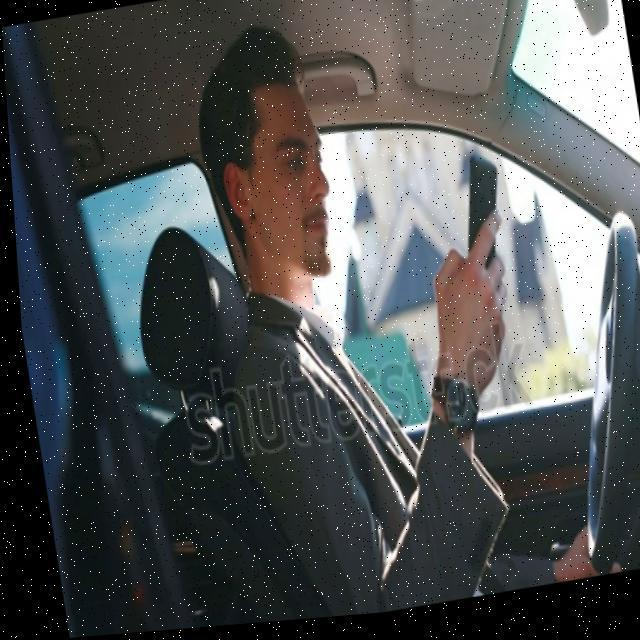PhoneCall: (448, 154, 512, 298)
